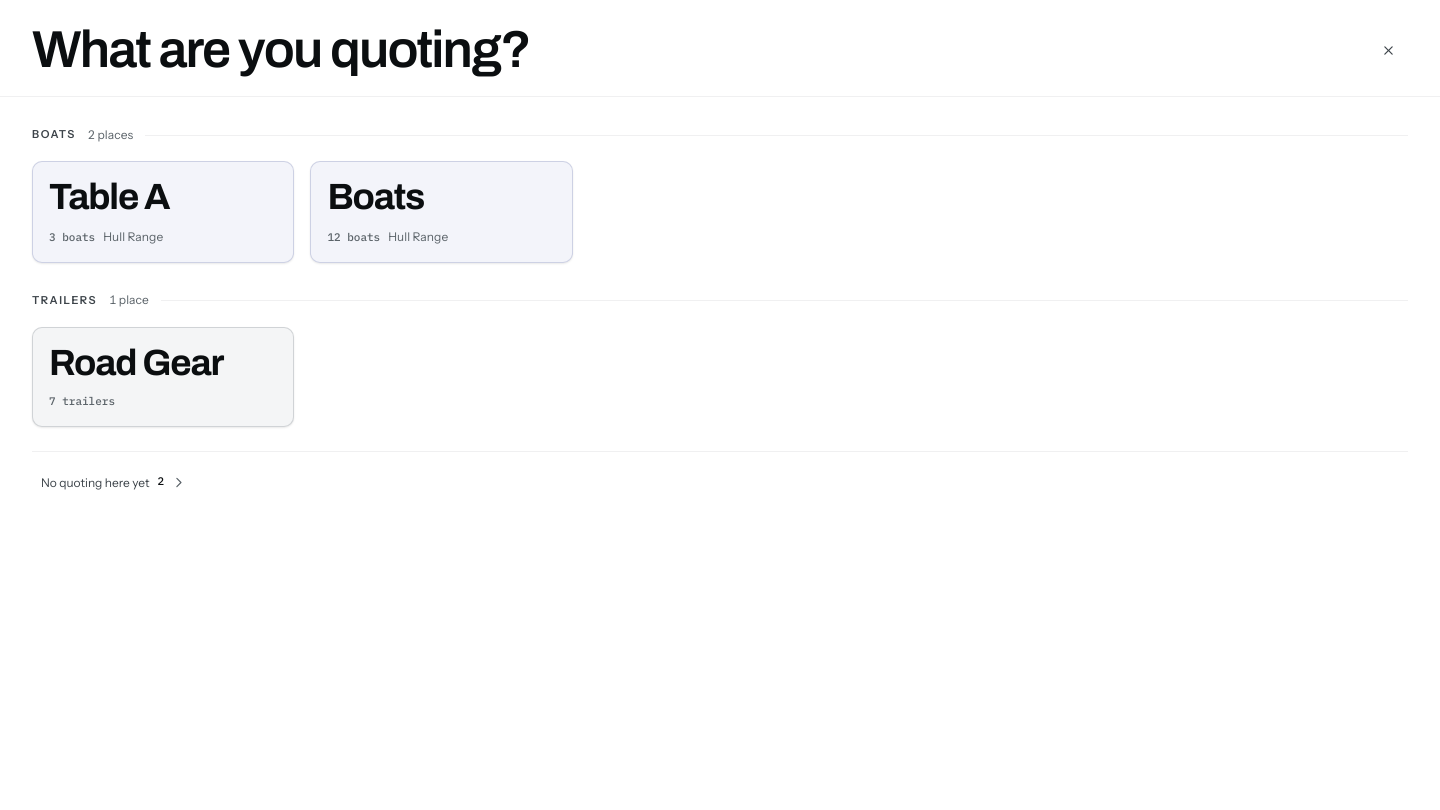
it: the picker grid — picking a place › walks back to the grid with every card still there
Click the button with aria-label "Road Gear, 7 trailers" at (163, 377), box [32,327,294,427]
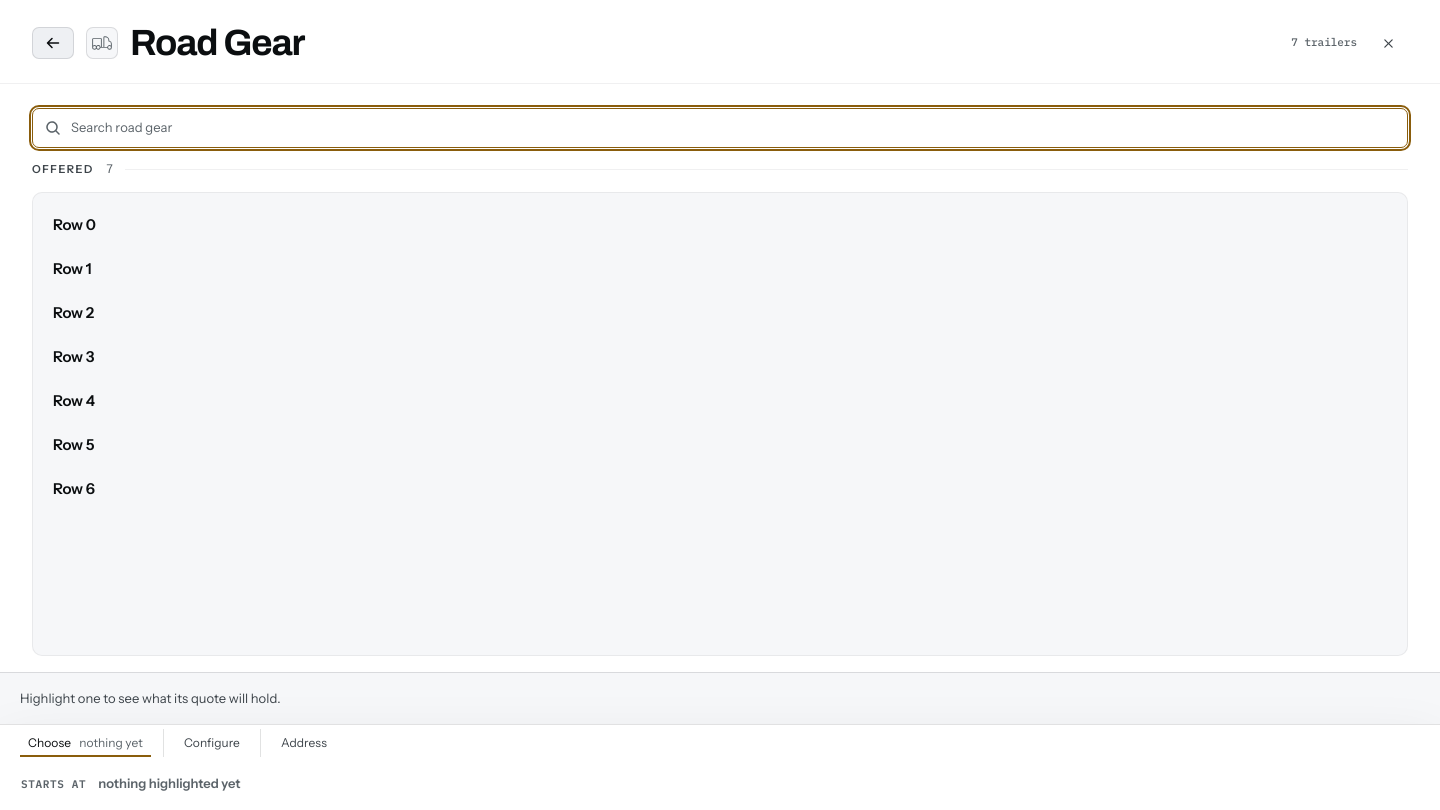
Click the button named "Back to the modules" at (53, 43), box [32,27,74,59]
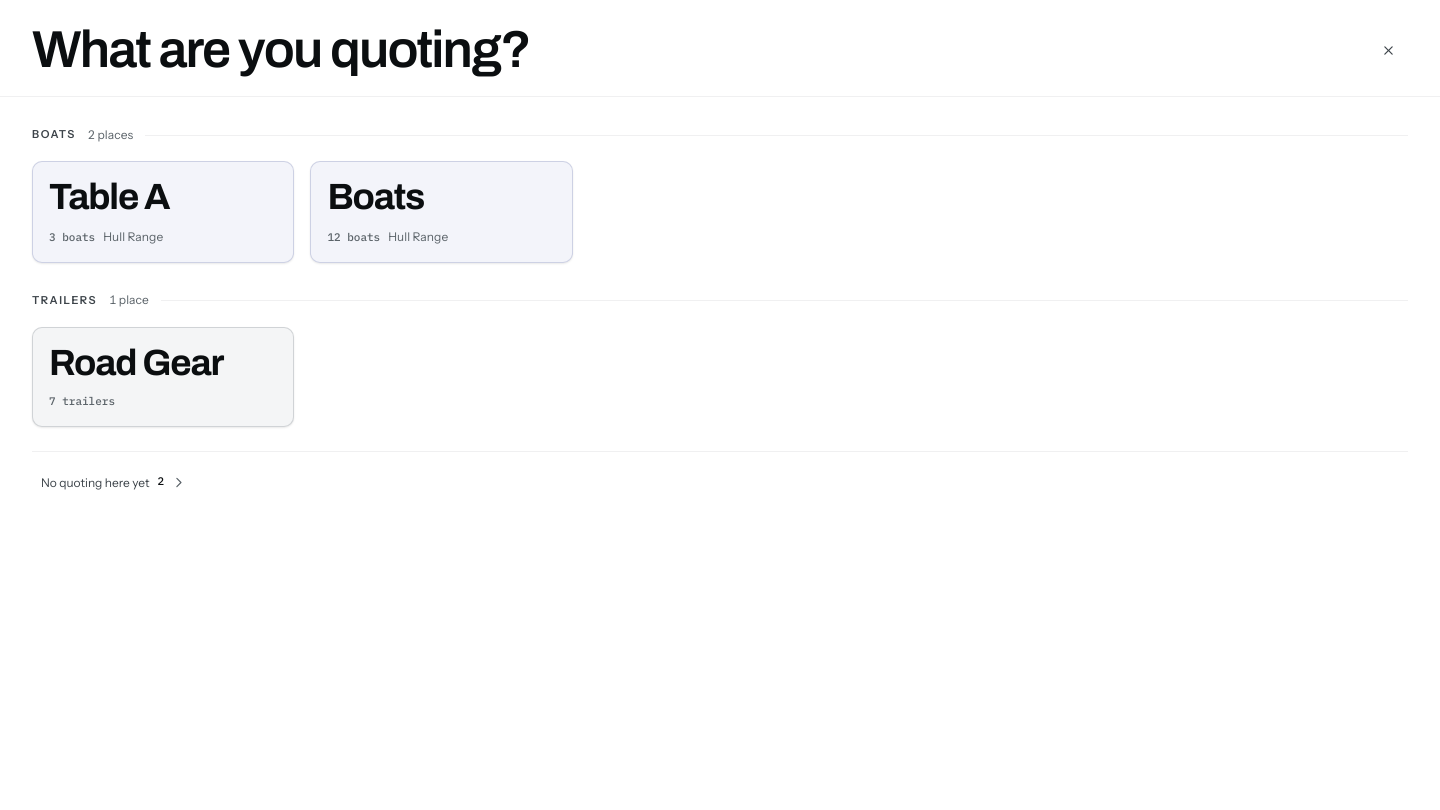
Now the heading "What are you quoting?" is shown, box [32,21,530,78]
